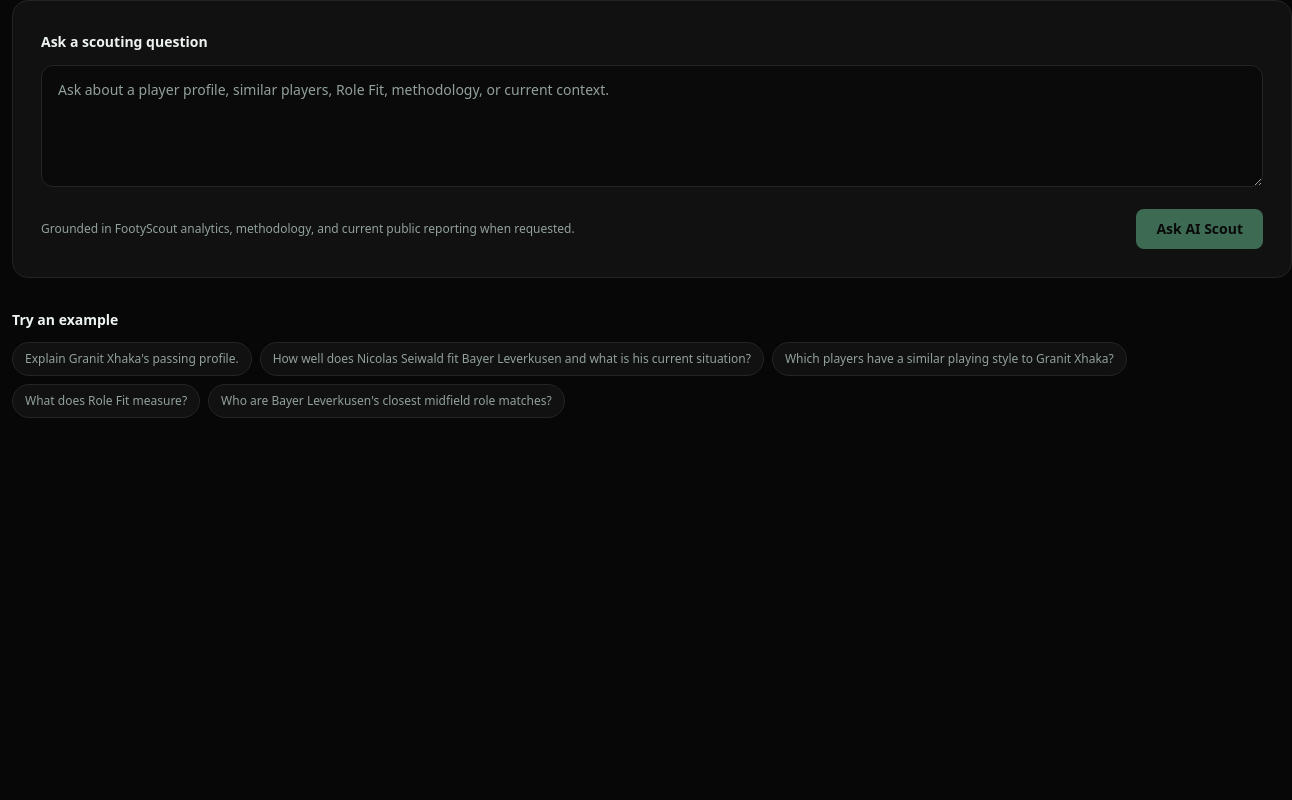
Scenario: AIScoutExperience › renders the clarification_required application state
Type "Explain Role Fit." into the text box labelled "Ask a scouting question" at (652, 126), box [41,65,1263,187]
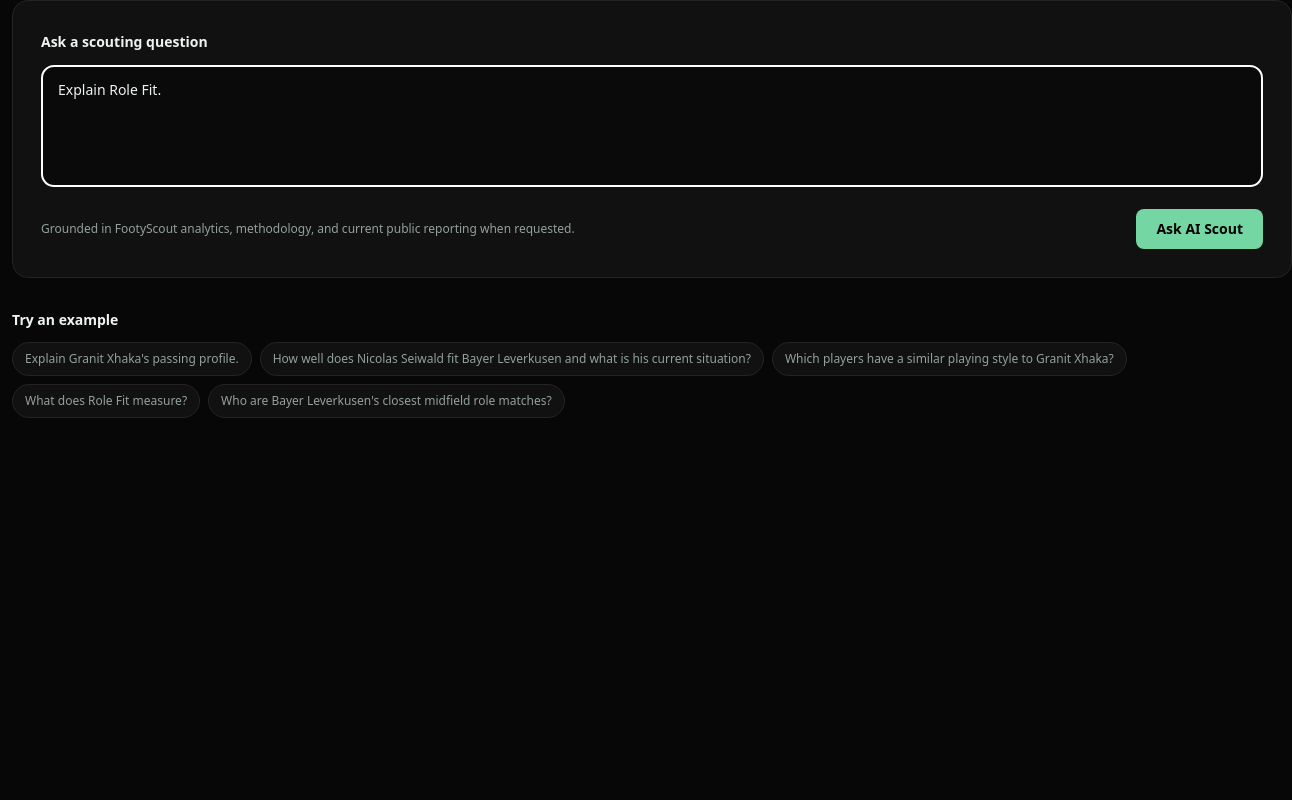
Click the button "Ask AI Scout" at (1200, 229), box [1136,209,1263,249]
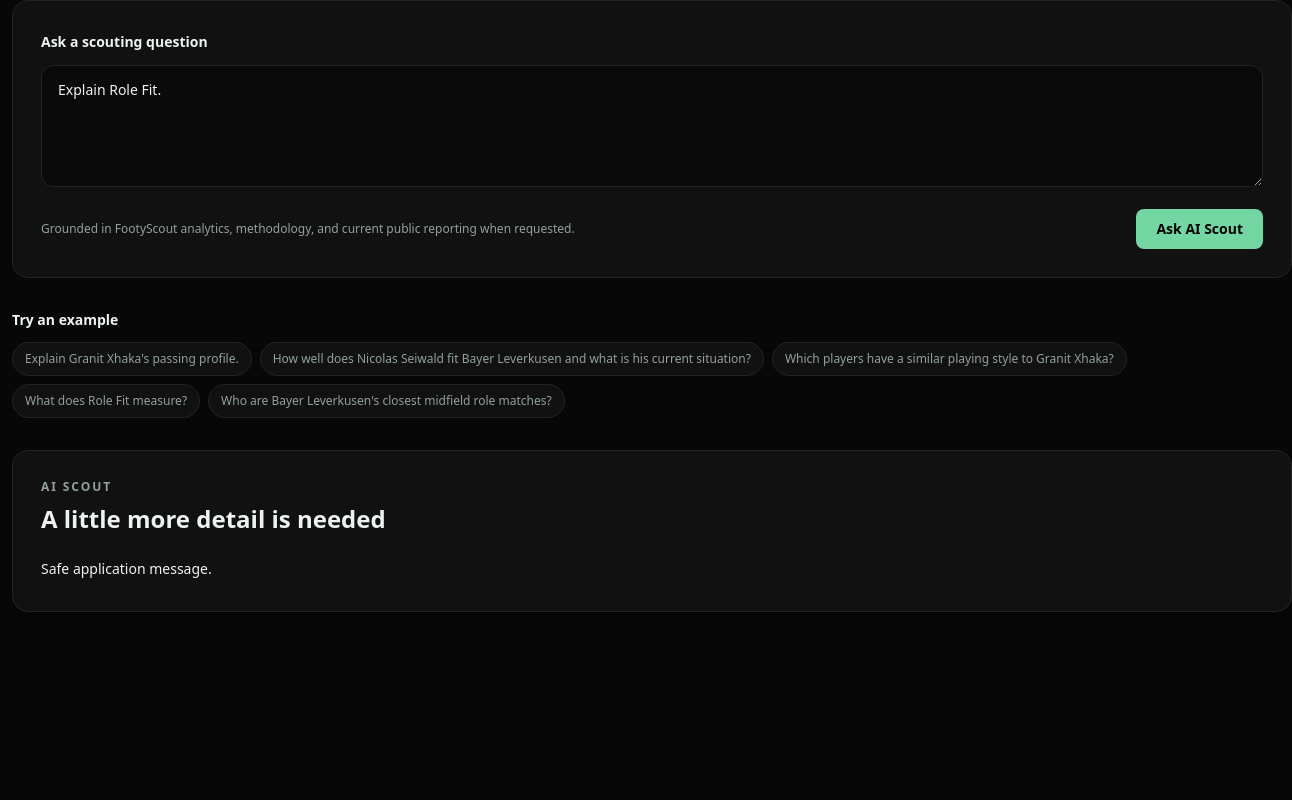
Check: the heading "A little more detail is needed" is shown, box [41,502,386,535]
Check: the text "Safe application message." is shown, box [41,559,212,578]
